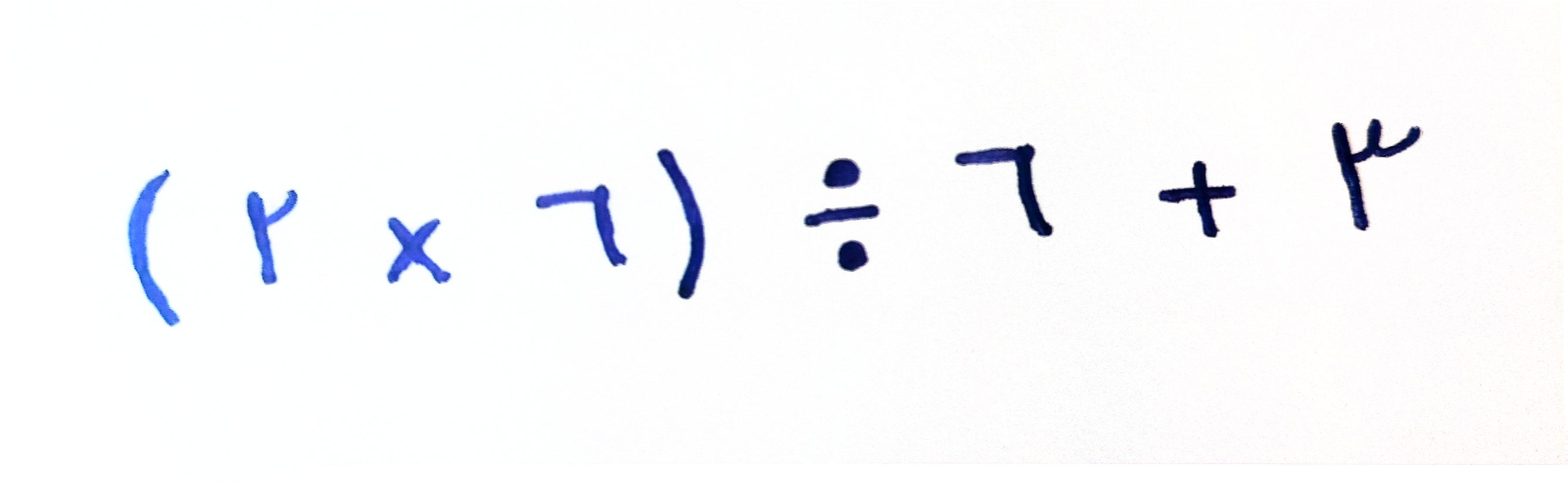character: (1332, 117, 1421, 231), (804, 156, 878, 273), (957, 146, 1054, 234), (129, 169, 181, 326), (653, 149, 705, 298), (536, 186, 630, 266), (1159, 159, 1235, 238), (248, 191, 297, 284), (385, 216, 451, 283)
